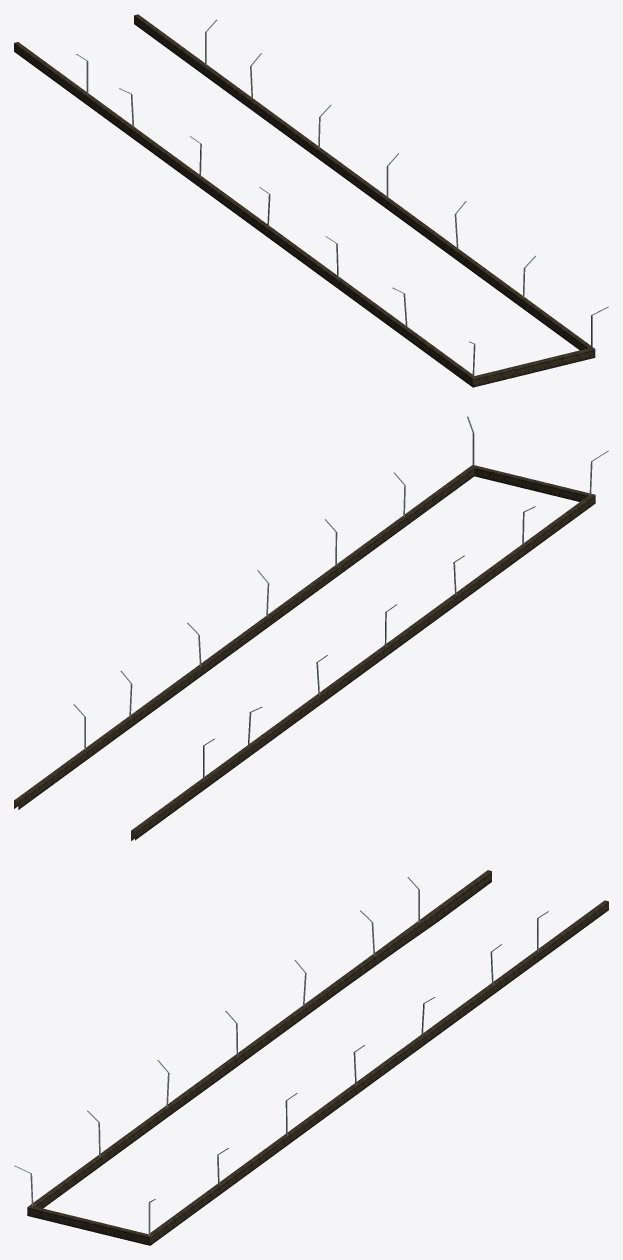
File: vgnntrainfence05.obj
3 renders of one model, top to bottom at view 1: azimuth 30°, elevation 25°; view 2: azimuth 150°, elevation 25°; view 3: azimuth 330°, elevation 25°, orthographic.
Visible parts, largest first — view 1: vgnNtrainfence05; view 2: vgnNtrainfence05; view 3: vgnNtrainfence05.
Part boxes in pixels (x1,y1,x2,y2): vgnNtrainfence05: [14, 14, 608, 387]; vgnNtrainfence05: [14, 416, 608, 840]; vgnNtrainfence05: [14, 870, 608, 1245].
Size of the model in its own units: 17.95 by 6.64 by 100.
Materials: 2 (2 with a texture image).
